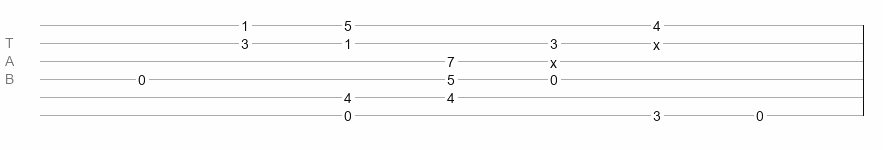0: (138, 72, 146, 82), (344, 108, 352, 118), (550, 72, 558, 82), (756, 108, 764, 118)
1: (241, 18, 249, 28), (344, 36, 352, 46)
3: (241, 36, 249, 46), (550, 36, 558, 46), (653, 108, 661, 118)
4: (344, 90, 352, 100), (447, 90, 455, 100), (653, 18, 661, 28)
5: (344, 18, 352, 28), (447, 72, 455, 82)
7: (447, 54, 455, 64)
x: (550, 55, 557, 63), (653, 37, 660, 45)
